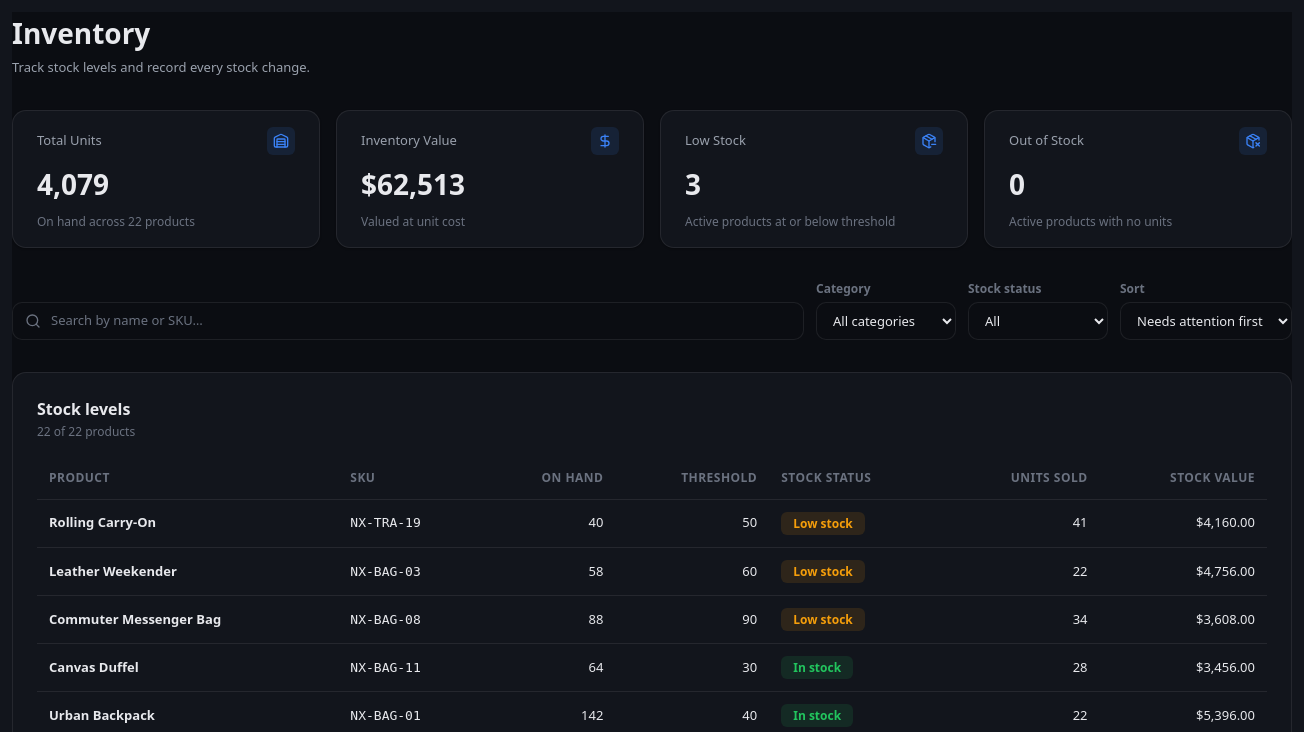
Scenario: Inventory page: search, filters and sorting › sorts by stock_asc
Select "Stock: low to high" in the dropdown labelled "Sort" at (1206, 320), box [1120,302,1292,340]
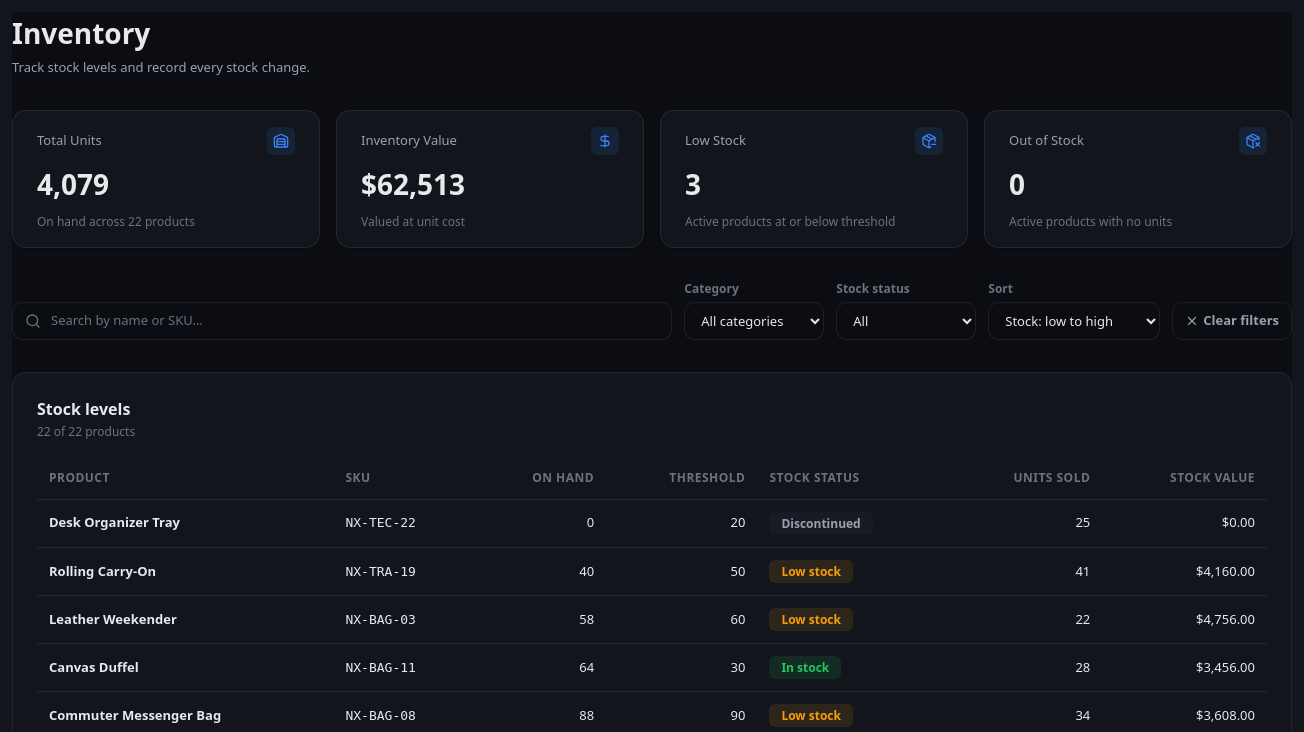
expect the button with aria-label "Manage stock for " reads "Desk Organizer Tray": met, box [49,513,180,533]
